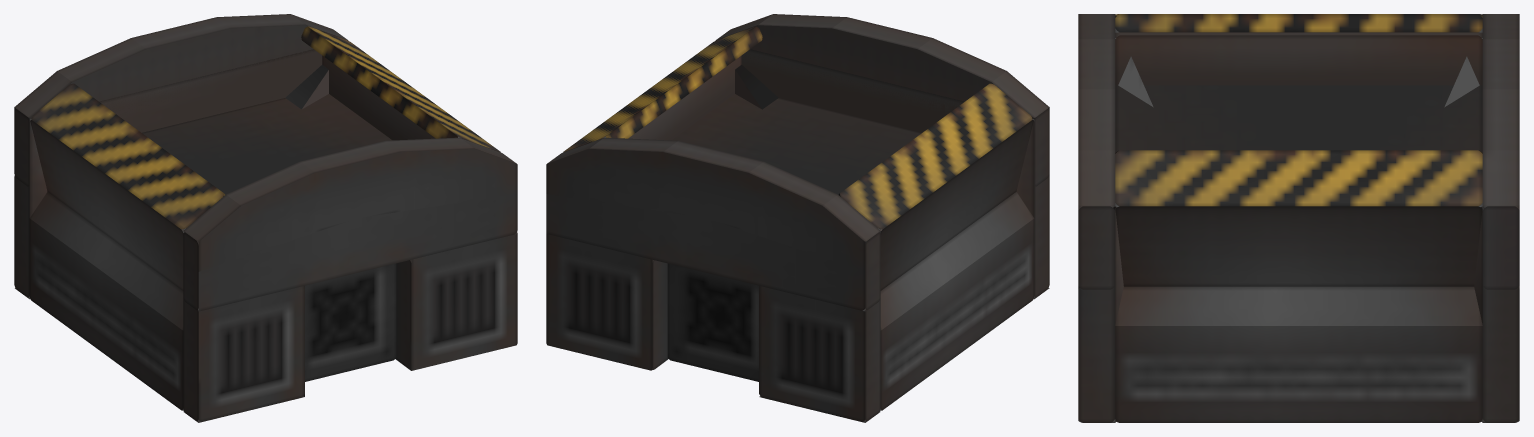
The model's file is drobitel.obj.
3 renders of one model, left to right at view 1: azimuth 30°, elevation 25°; view 2: azimuth 150°, elevation 25°; view 3: azimuth 270°, elevation 25°, orthographic. The views are drawn at different scales.
Parts seen in each view (by area): view 1: 1; view 2: 1; view 3: 1.
Part boxes in pixels (<box>): 1: <box>14,14,517,422</box>; 1: <box>546,14,1049,422</box>; 1: <box>1078,14,1519,422</box>.
Size of the model in its own units: 3 by 1.99 by 3.
